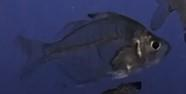Glass Perchlet: (15, 11, 172, 85)
